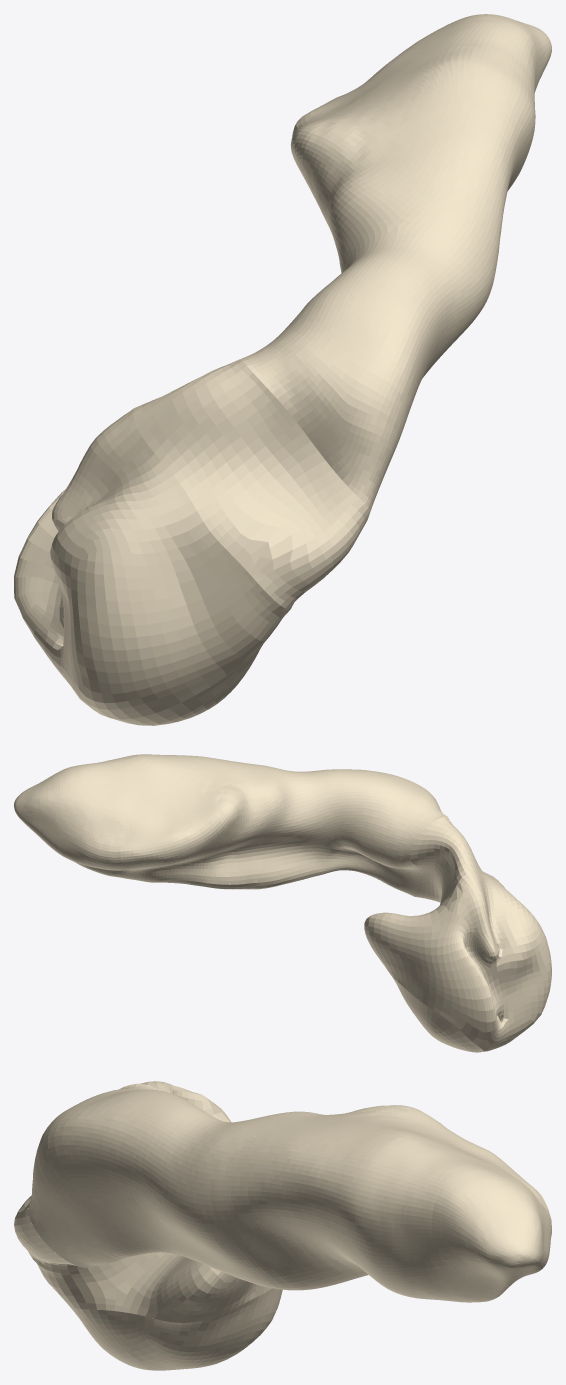
The model's file is pancreas.glb.
3 renders of one model, top to bottom at view 1: azimuth 30°, elevation 25°; view 2: azimuth 150°, elevation 25°; view 3: azimuth 270°, elevation 25°, orthographic. The views are drawn at different scales.
Visible parts, largest first — view 1: VH_M_head_of_pancreas, VH_M_body_of_pancreas, VH_M_tail_of_pancreas, VH_M_neck_of_pancreas, VH_M_uncinate_process_of_the_pancreas; view 2: VH_M_tail_of_pancreas, VH_M_head_of_pancreas, VH_M_body_of_pancreas, VH_M_neck_of_pancreas, VH_M_uncinate_process_of_the_pancreas; view 3: VH_M_tail_of_pancreas, VH_M_body_of_pancreas, VH_M_head_of_pancreas, VH_M_uncinate_process_of_the_pancreas, VH_M_neck_of_pancreas.
Boxes of the visible parts, x1,y1,x2,y2 form: VH_M_head_of_pancreas: (14,388,333,719); VH_M_body_of_pancreas: (241,177,500,515); VH_M_tail_of_pancreas: (290,14,551,235); VH_M_neck_of_pancreas: (178,359,369,569); VH_M_uncinate_process_of_the_pancreas: (110,645,262,725); VH_M_tail_of_pancreas: (14,754,271,889); VH_M_head_of_pancreas: (364,843,551,1051); VH_M_body_of_pancreas: (242,762,446,896); VH_M_neck_of_pancreas: (410,816,467,902); VH_M_uncinate_process_of_the_pancreas: (391,975,485,1052); VH_M_tail_of_pancreas: (232,1105,551,1302); VH_M_body_of_pancreas: (28,1083,299,1289); VH_M_head_of_pancreas: (14,1086,271,1322); VH_M_uncinate_process_of_the_pancreas: (70,1288,282,1370); VH_M_neck_of_pancreas: (14,1081,180,1265).
Size of the model in its own units: 0.1114 by 0.072 by 0.0836.
